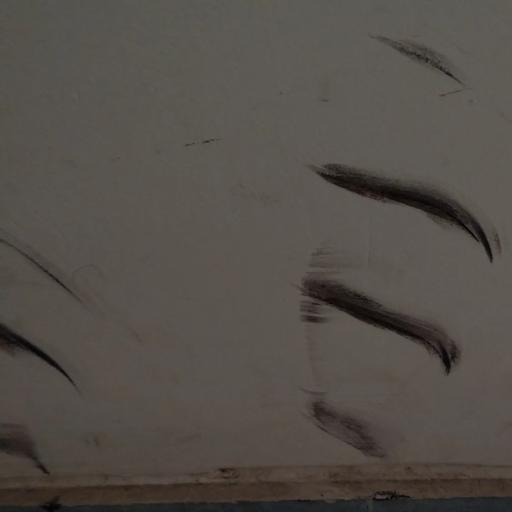stain: (273, 11, 512, 482), (0, 209, 136, 498)
